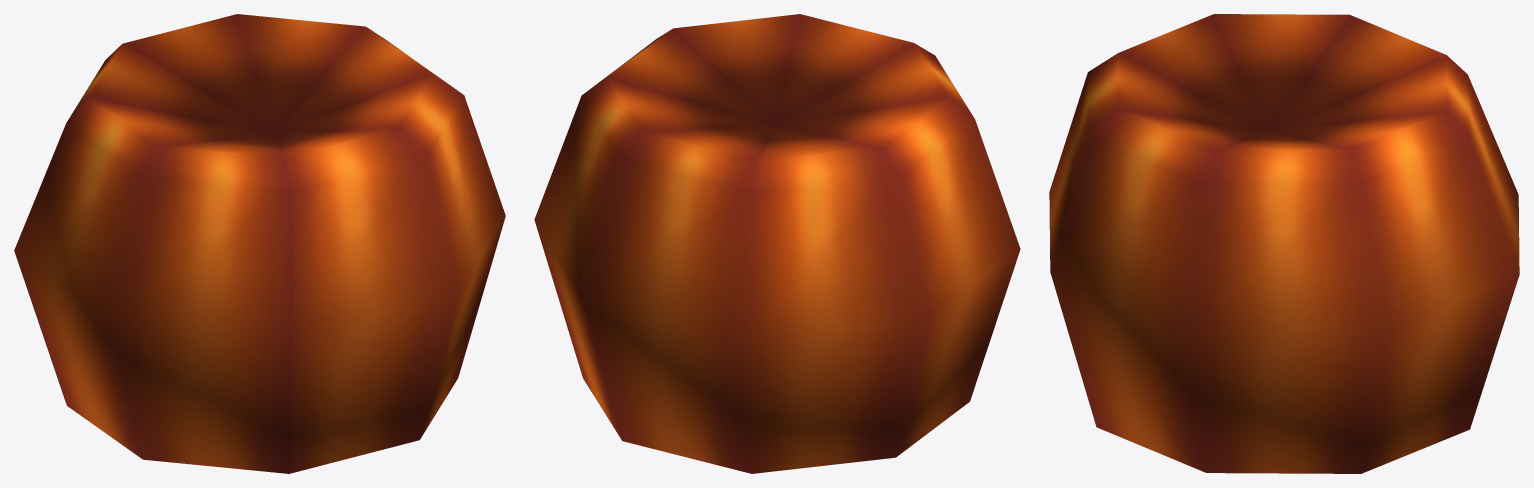
The model's file is Pumpkin.FBX.
The picture shows the model from 3 angles, left to right: view 1: azimuth 30°, elevation 25°; view 2: azimuth 150°, elevation 25°; view 3: azimuth 270°, elevation 25°; orthographic projection. The views are drawn at different scales.
Parts seen in each view (by area): view 1: Pumpkin; view 2: Pumpkin; view 3: Pumpkin.
Boxes of the visible parts, x1,y1,x2,y2 form: Pumpkin: [14, 14, 505, 473]; Pumpkin: [534, 14, 1020, 473]; Pumpkin: [1049, 14, 1519, 473].
Bounding box in the file's own units: 0.5118 × 0.4287 × 0.5119.
